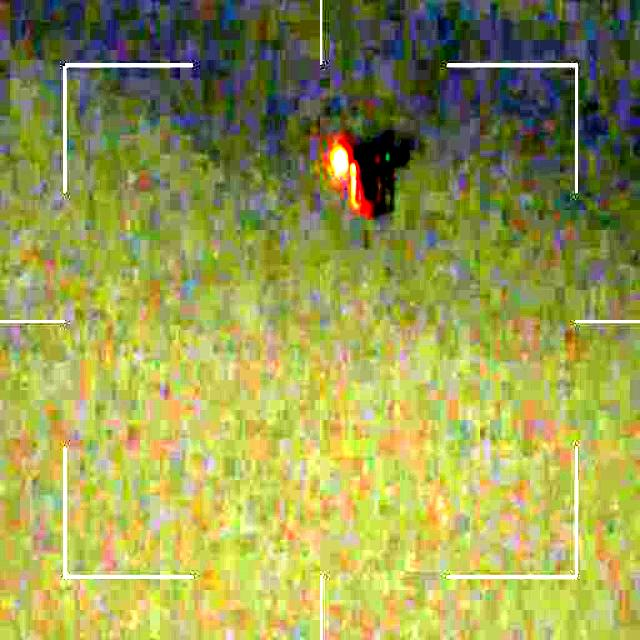bird: (328, 125, 411, 220)
